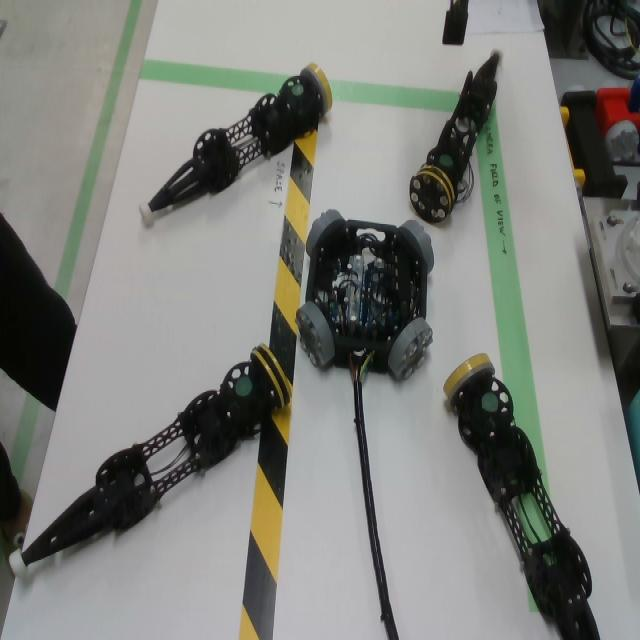body: (307, 219, 426, 373)
body_connector: (295, 301, 336, 371), (388, 319, 433, 381), (400, 220, 435, 275), (305, 209, 344, 257)
leg: (8, 344, 293, 577), (443, 353, 600, 640), (139, 63, 333, 229), (409, 48, 503, 224)
leg_connector: (443, 353, 496, 408), (409, 164, 456, 224), (250, 344, 292, 409), (300, 63, 333, 116)
leg_marker: (481, 392, 499, 413), (235, 377, 253, 396), (439, 155, 453, 167), (291, 84, 304, 96)
